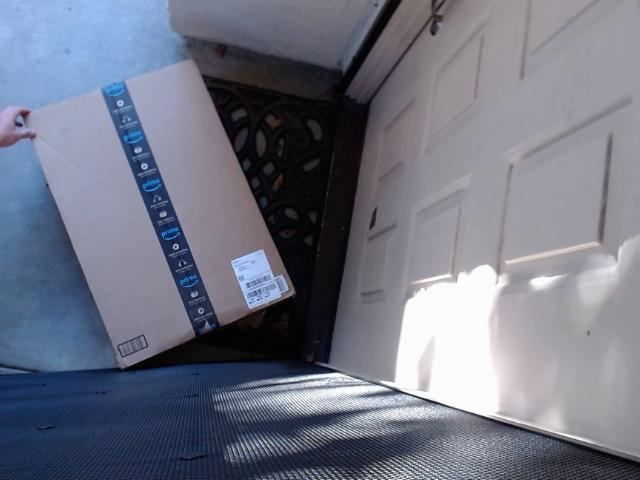box: (22, 58, 338, 371)
